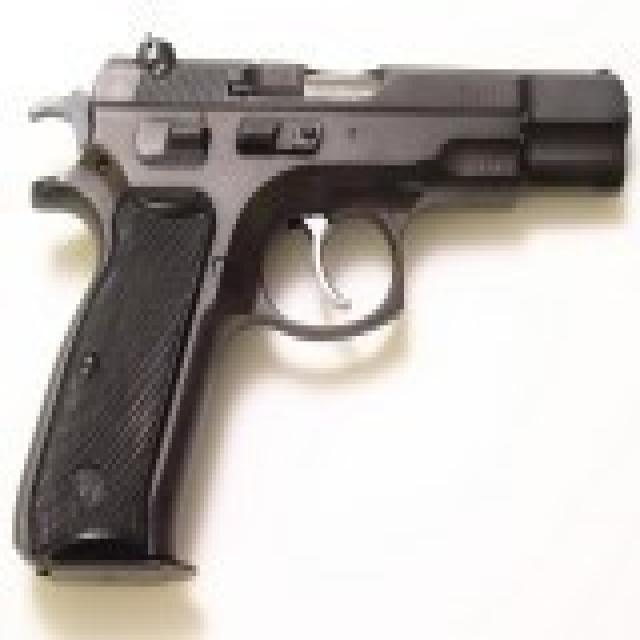Gun: (19, 23, 640, 575)
